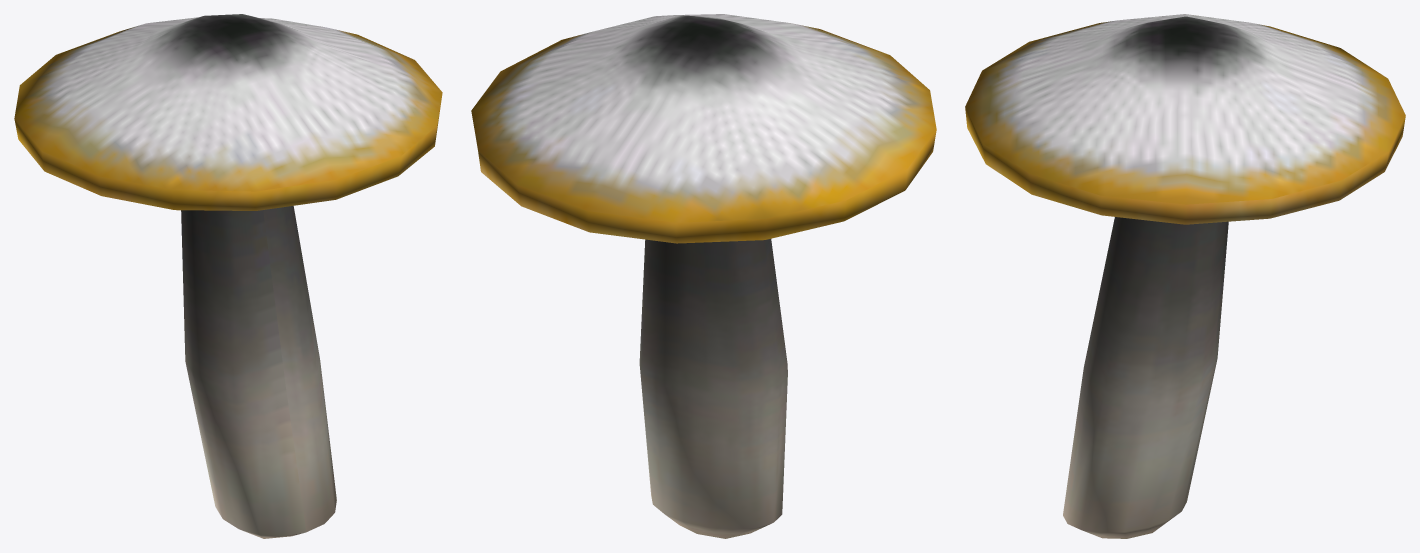
File: INST_TROLLHOLE_SHROOMC2.obj
The picture shows the model from 3 angles, left to right: view 1: azimuth 30°, elevation 25°; view 2: azimuth 150°, elevation 25°; view 3: azimuth 270°, elevation 25°; orthographic projection. The views are drawn at different scales.
Visible parts, largest first — view 1: hroomC2_Lod1_01; view 2: hroomC2_Lod1_01; view 3: hroomC2_Lod1_01.
Part boxes in pixels (x1=…): hroomC2_Lod1_01: x1=14, y1=14, x2=442, y2=538; hroomC2_Lod1_01: x1=471, y1=14, x2=936, y2=538; hroomC2_Lod1_01: x1=965, y1=14, x2=1405, y2=538.
Bounding box in the file's own units: 87.79 × 108 × 87.76.
